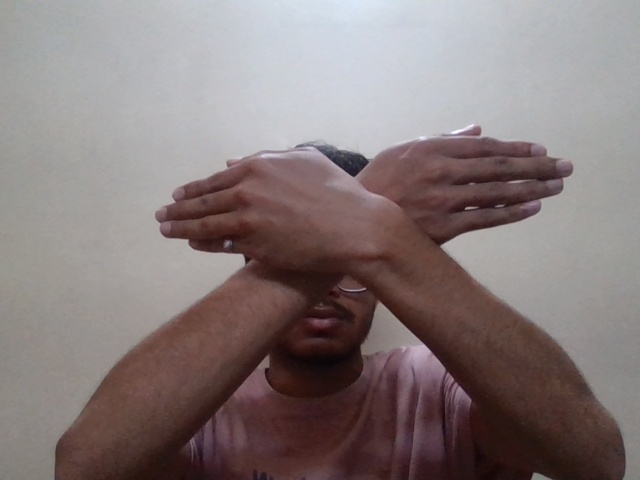feel: (145, 76, 579, 343)
